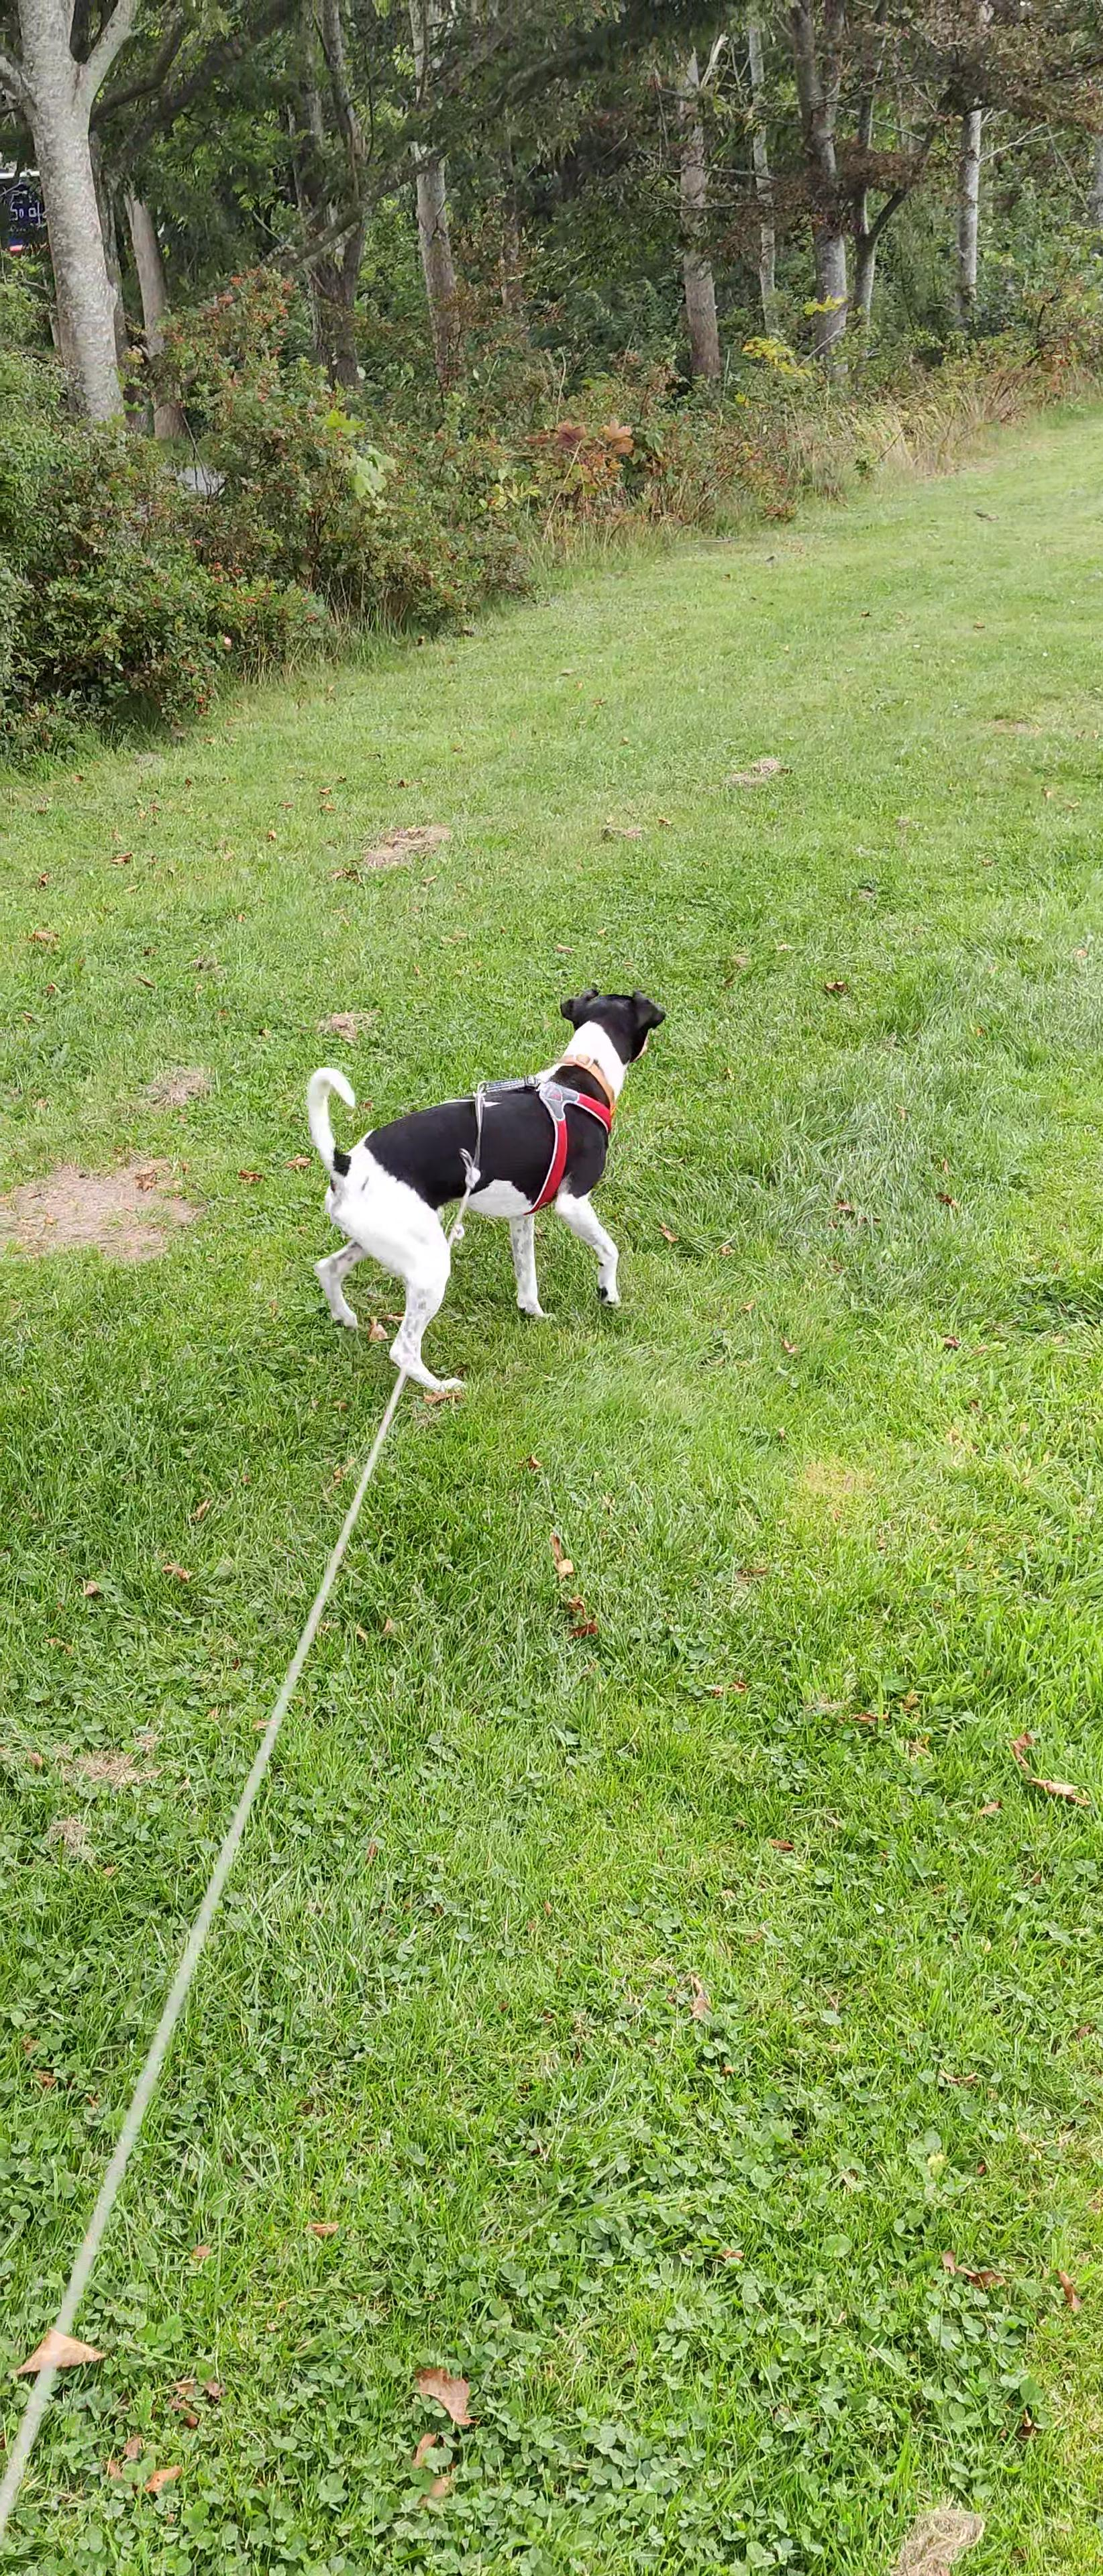Dog: (302, 981, 666, 1395)
